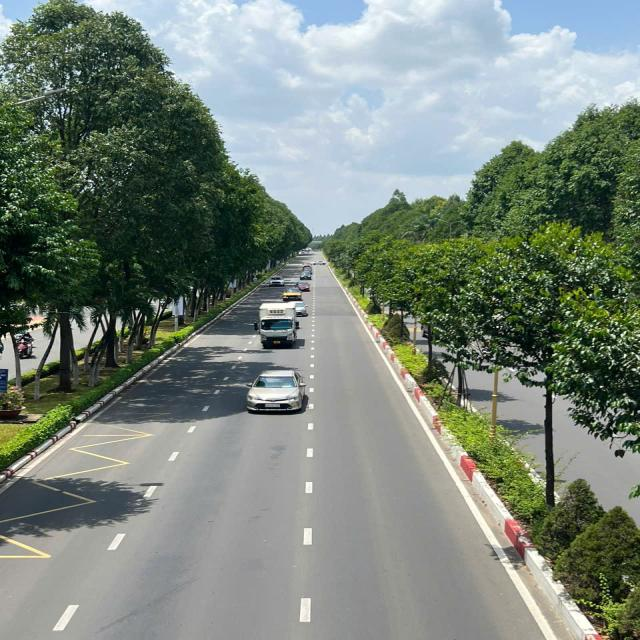Truck: (259, 304, 298, 352)
car: (250, 368, 304, 415), (288, 298, 308, 319), (283, 288, 302, 302), (294, 282, 312, 292), (270, 277, 285, 286), (299, 271, 311, 281), (312, 260, 328, 267), (302, 268, 312, 272), (301, 263, 311, 267)
